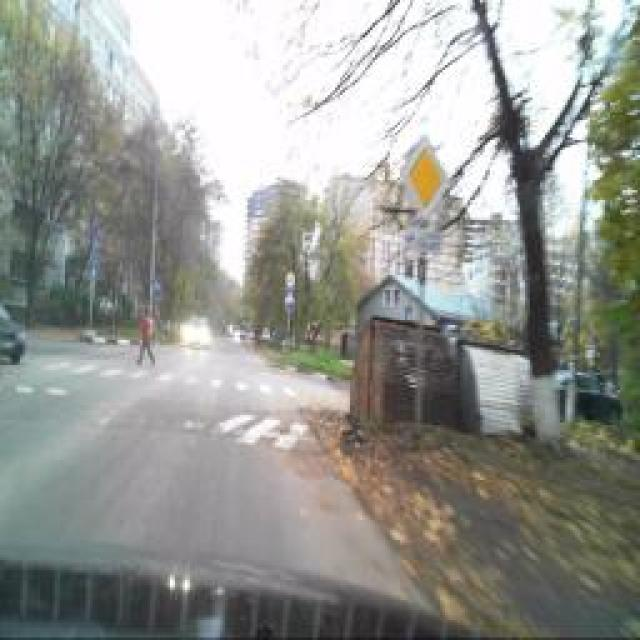sign: (285, 270, 295, 288)
